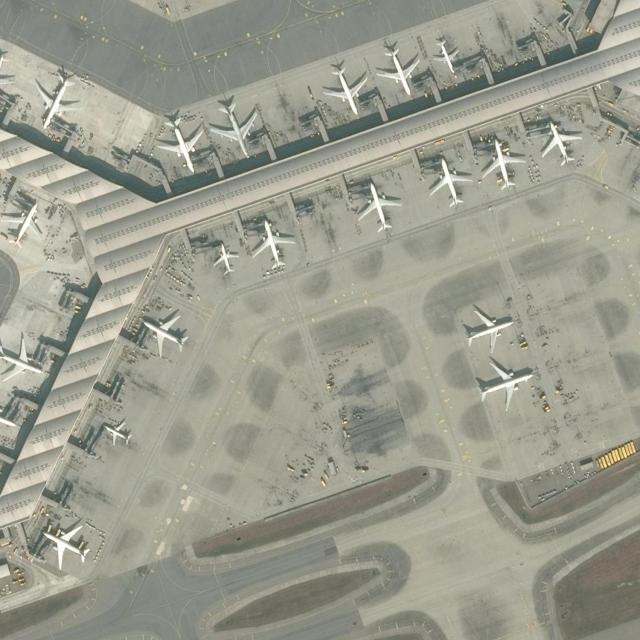Aircraft: (207, 98, 263, 158), (151, 114, 203, 174), (474, 360, 536, 410), (249, 214, 300, 270), (35, 69, 81, 130), (354, 177, 402, 234), (478, 136, 527, 191), (423, 155, 472, 209), (462, 305, 517, 353), (319, 63, 367, 114), (41, 521, 91, 569), (376, 45, 421, 98), (139, 312, 190, 358), (540, 119, 586, 169), (0, 197, 44, 249), (0, 335, 47, 383), (430, 35, 463, 75), (210, 240, 239, 278), (0, 386, 20, 434), (101, 417, 132, 447), (0, 45, 14, 102)
